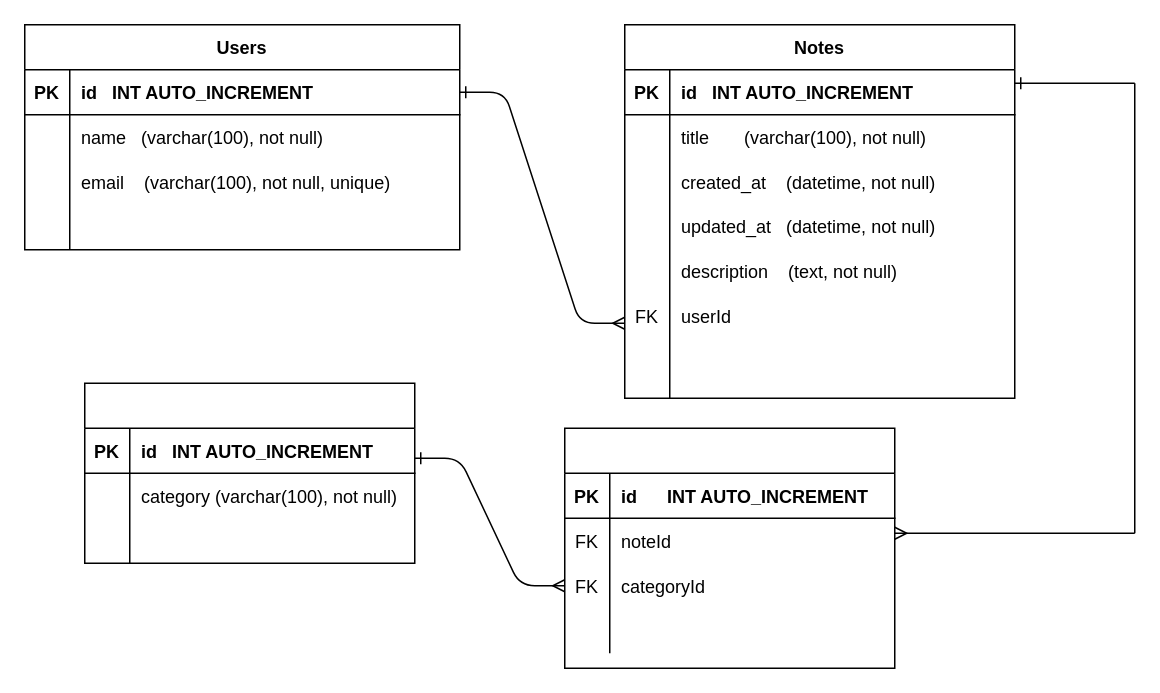
This 1160x693 diagram has some shape labels left out. Each missing label, with the box of its shape:
Categories: (83, 382, 415, 563)
Categories_notes: (563, 427, 895, 668)
